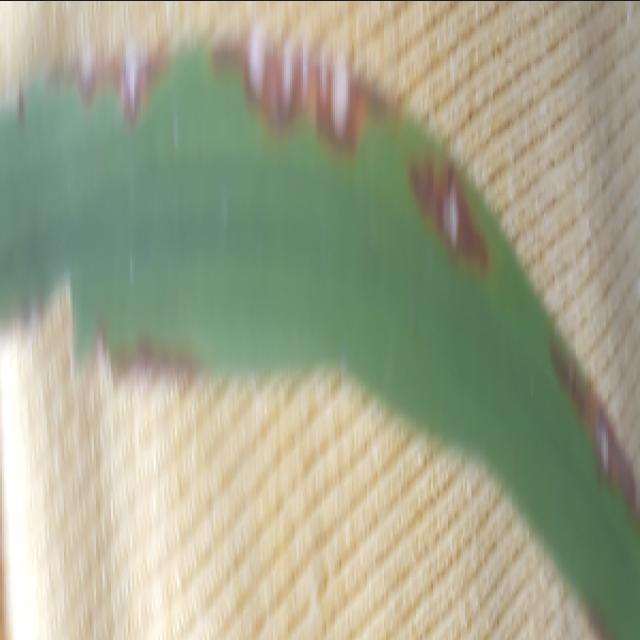Brown_Spot: (241, 60, 371, 182)
